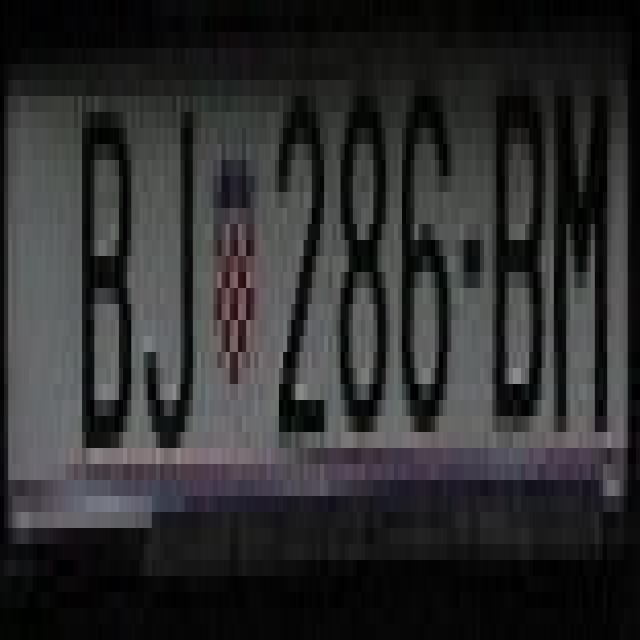2: (270, 112, 332, 432)
6: (394, 80, 464, 432)
8: (340, 80, 386, 432)
B: (484, 80, 538, 416), (82, 80, 127, 448)
M: (554, 64, 616, 448)
